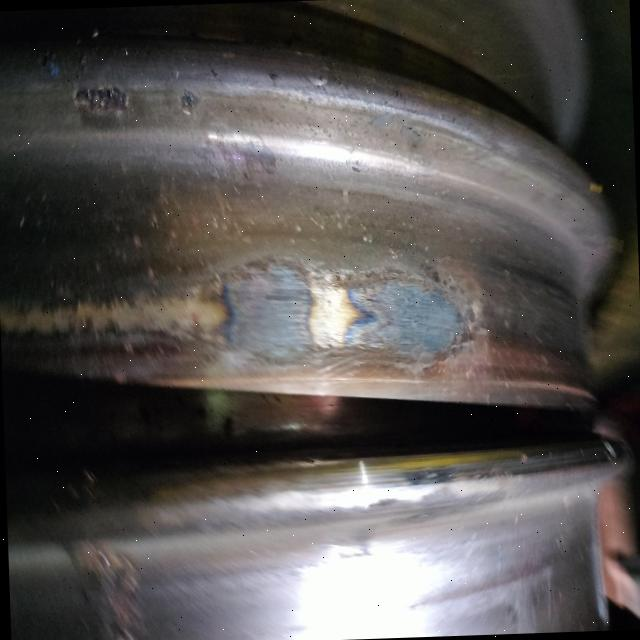flat: (167, 254, 489, 385)
